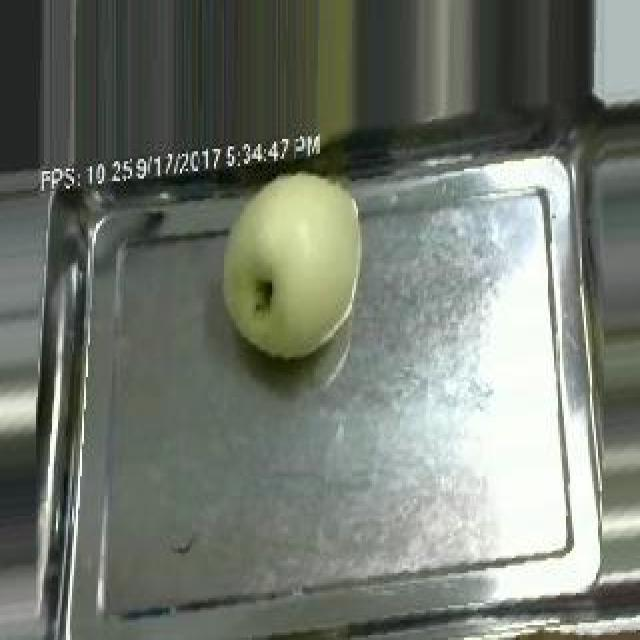apple: (212, 159, 393, 382)
